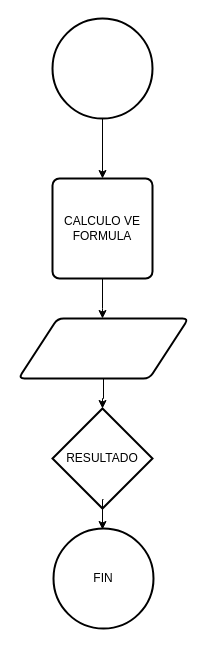
Image size: 206x646. Some labels were removed from this diagram. Here are the shapes that lost their labels. From the top down, the centre of each, then its label:
At (x=102, y=68): "INICIO".
At (x=103, y=348): "RAIZ CUADRADA ( ( 2 * g * r )".
